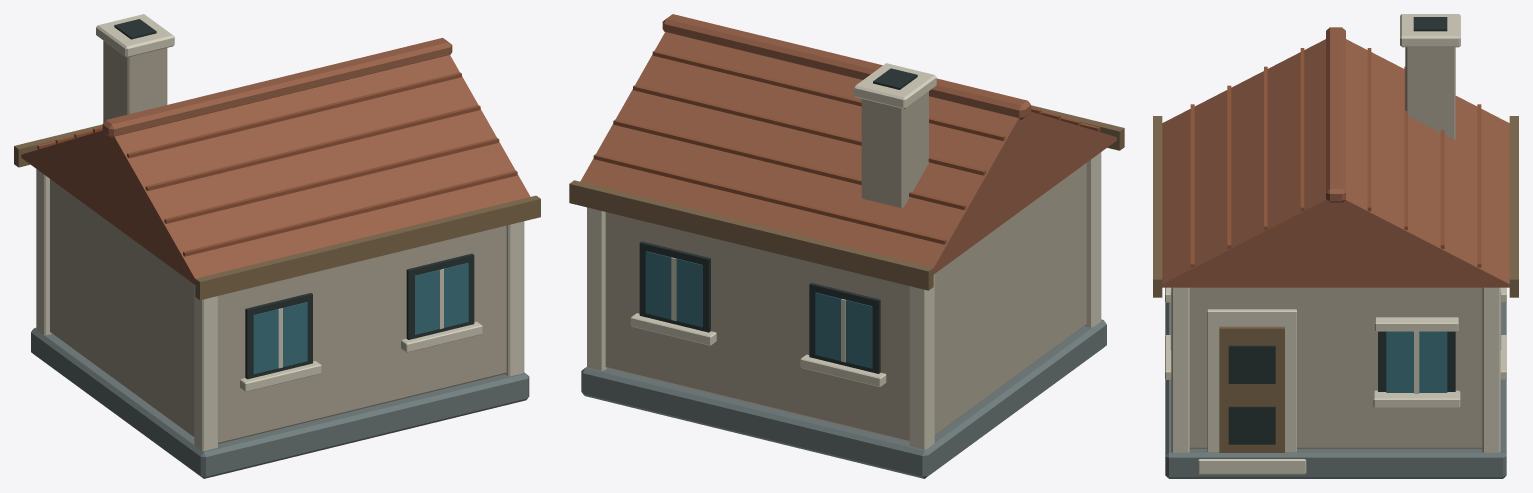
Rendered from civilian_house.glb.
The picture shows the model from 3 angles, left to right: view 1: azimuth 30°, elevation 25°; view 2: azimuth 150°, elevation 25°; view 3: azimuth 270°, elevation 25°; orthographic projection. The views are drawn at different scales.
Parts seen in each view (by area): view 1: civilian_house; view 2: civilian_house; view 3: civilian_house.
Boxes of the visible parts, box(x1,y1,x2,y2) form: civilian_house: box(14, 14, 540, 478); civilian_house: box(569, 14, 1124, 478); civilian_house: box(1153, 14, 1518, 478).
Bounding box in the file's own units: 2.59 × 2.4 × 2.4.
